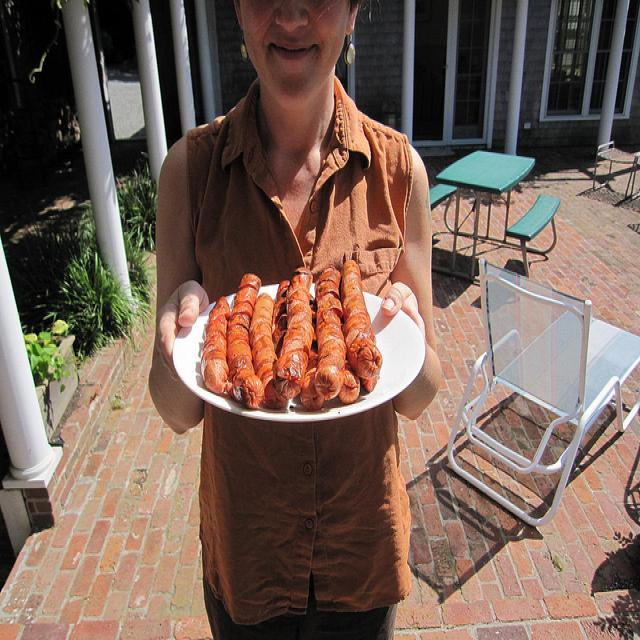chair: (445, 256, 640, 535), (593, 140, 640, 200)
dining table: (436, 147, 536, 195)
